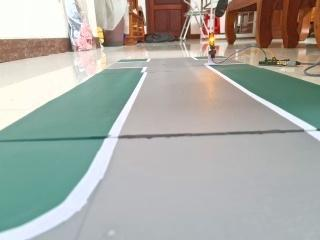yellow: (203, 25, 221, 49)
